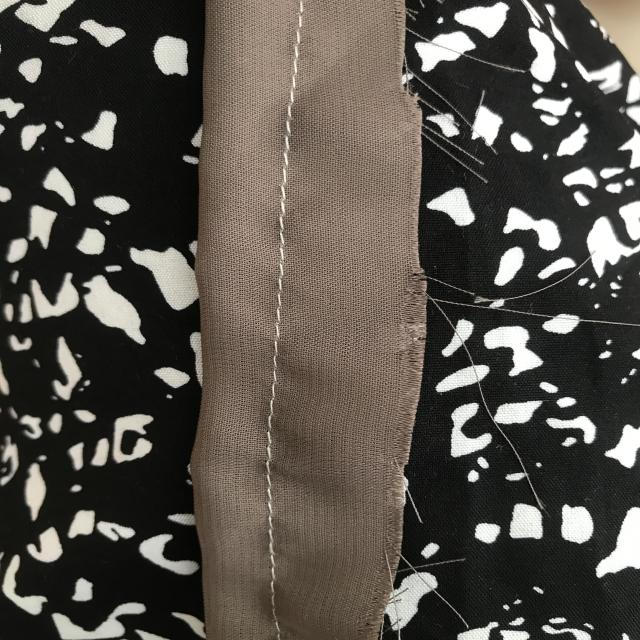good: (258, 183, 304, 273), (268, 308, 290, 418), (283, 28, 307, 114)
